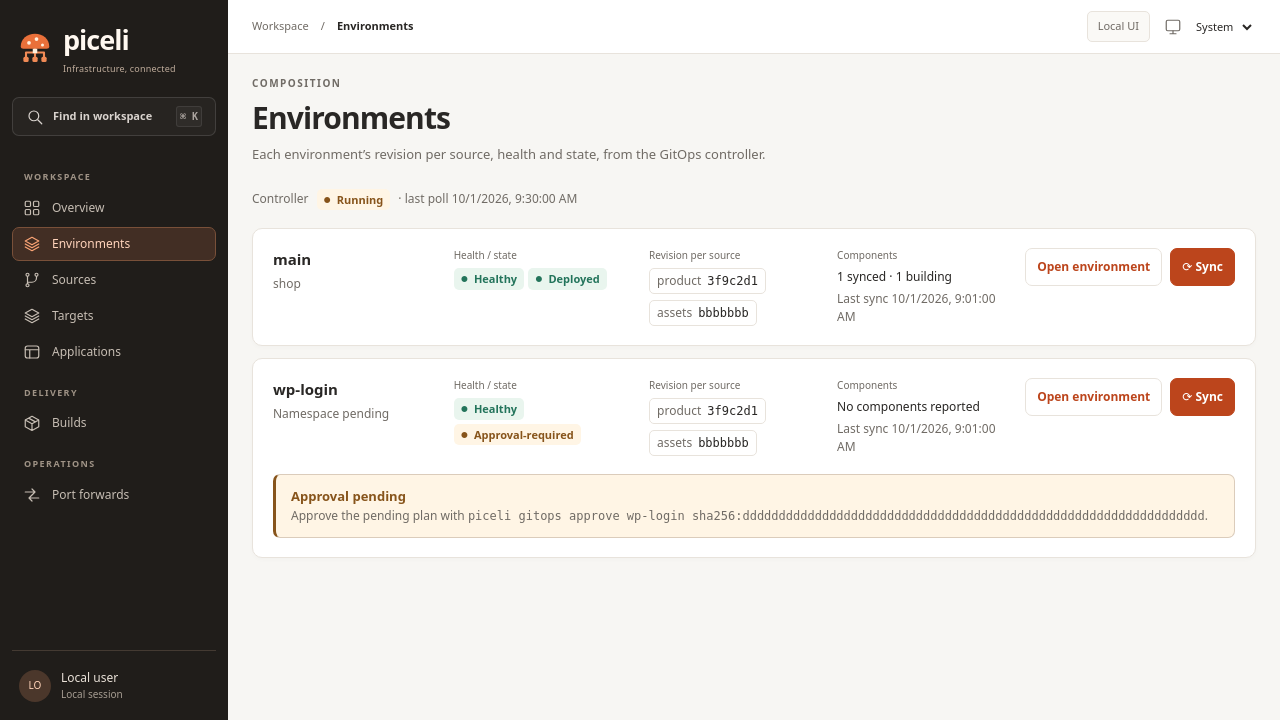
Test: shows a friendly refusal when the sync target is unknown
Click the button with aria-label "Sync main" at (1203, 267), box [1170,248,1235,286]
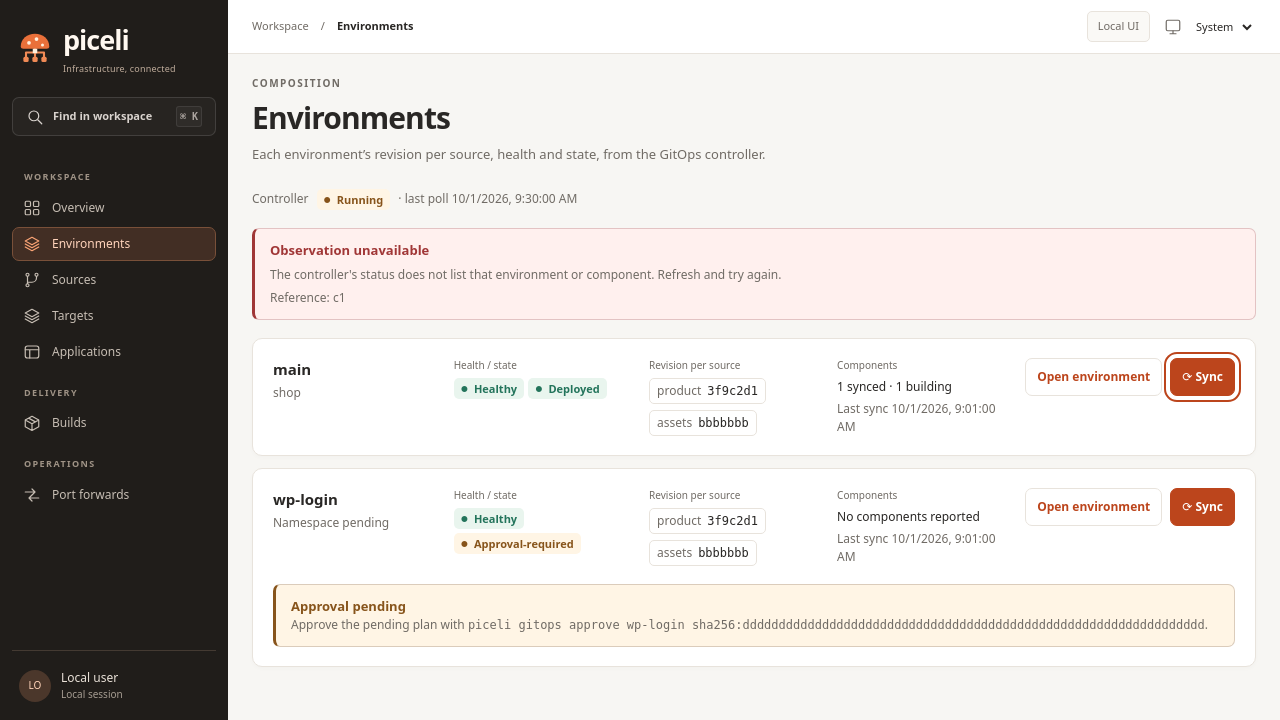
Result: the text "does not list that environment or component" is shown at [270,266,782,283]
